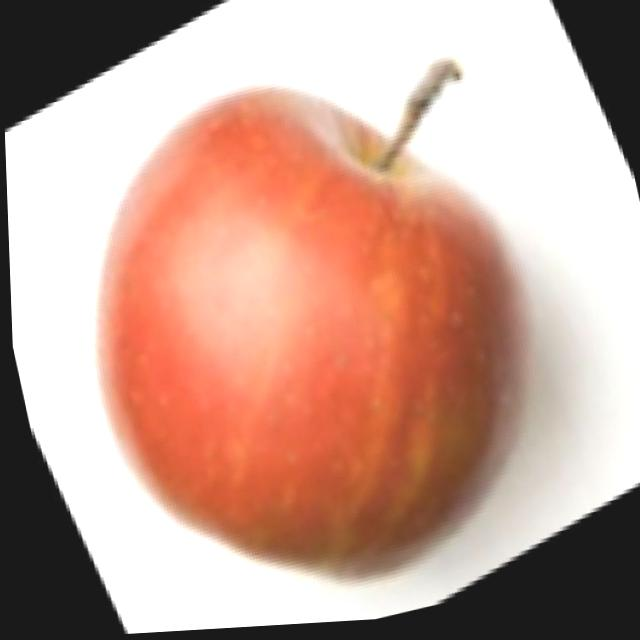Apple: (41, 34, 563, 617)
